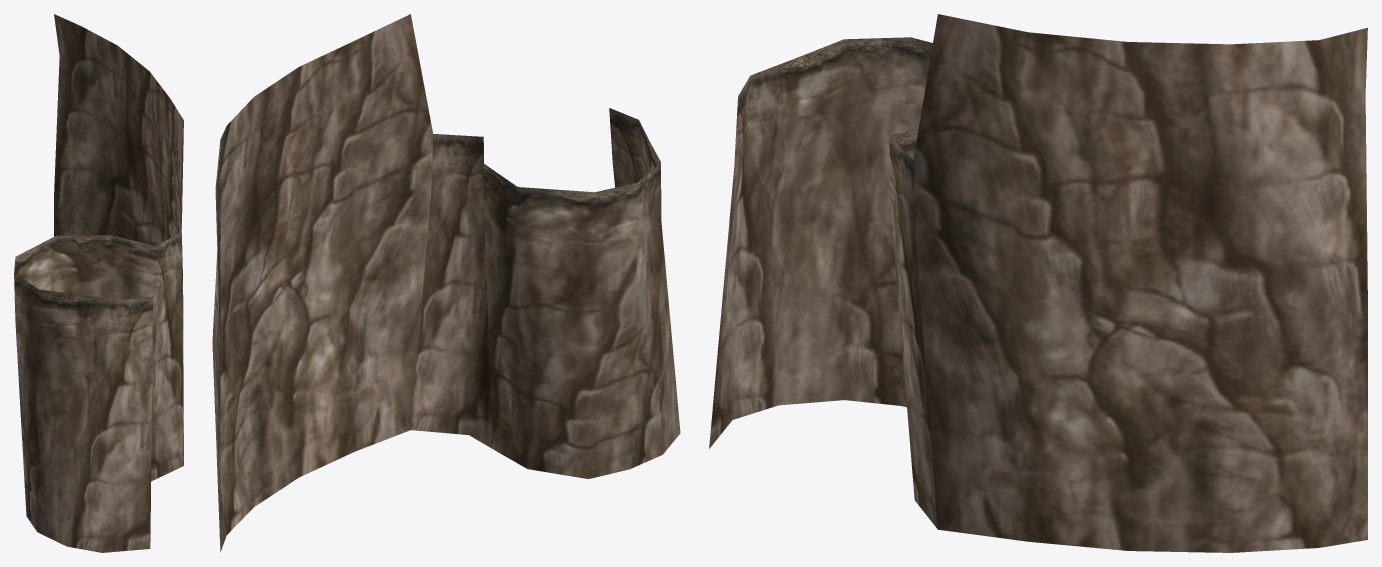
The model's file is OVERHILL_A_01_OBJECT38.fbx.
3 views of the same model, side by side, from view 1: azimuth 30°, elevation 25°; view 2: azimuth 150°, elevation 25°; view 3: azimuth 270°, elevation 25° (orthographic). The views are drawn at different scales.
Parts seen in each view (by area): view 1: OVERHILL_A_01_OBJECT38; view 2: OVERHILL_A_01_OBJECT38; view 3: OVERHILL_A_01_OBJECT38.
Part boxes in pixels (left/top/right/bottom): OVERHILL_A_01_OBJECT38: left=14, top=14, right=183, bottom=552; OVERHILL_A_01_OBJECT38: left=212, top=14, right=680, bottom=552; OVERHILL_A_01_OBJECT38: left=709, top=14, right=1367, bottom=552.
Bounding box in the file's own units: 45199 × 66689 × 77219.
2 materials, 2 textured.
